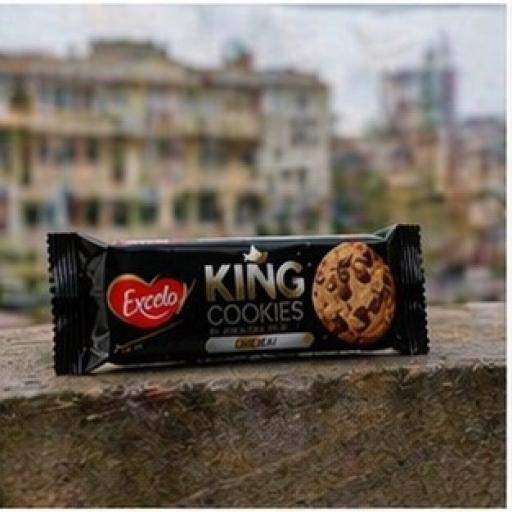king_cooking: (20, 178, 464, 424)
